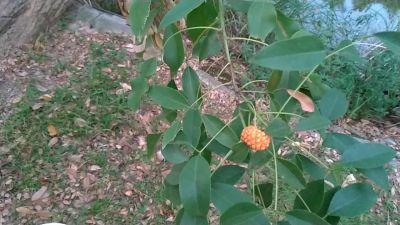eggs: (239, 123, 271, 153)
